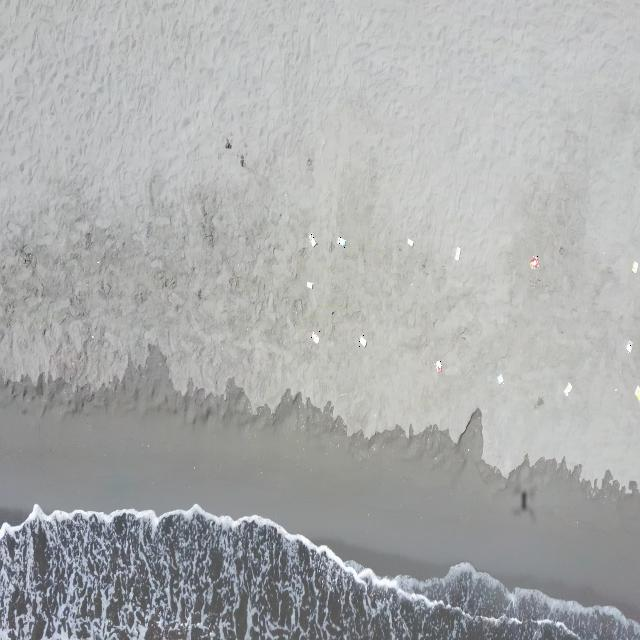retort-pouch: (310, 232, 318, 250), (564, 381, 572, 398), (530, 255, 539, 270), (358, 335, 368, 348), (454, 246, 462, 262), (311, 331, 320, 345), (434, 359, 442, 374), (631, 261, 639, 275), (337, 237, 346, 248), (496, 373, 504, 385), (406, 237, 414, 248), (635, 385, 640, 401), (627, 340, 633, 353), (306, 281, 313, 291)
